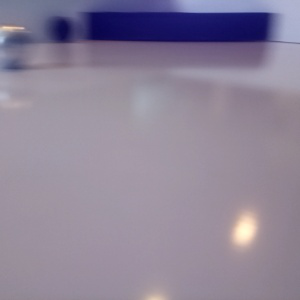zone: (81, 11, 271, 40)
